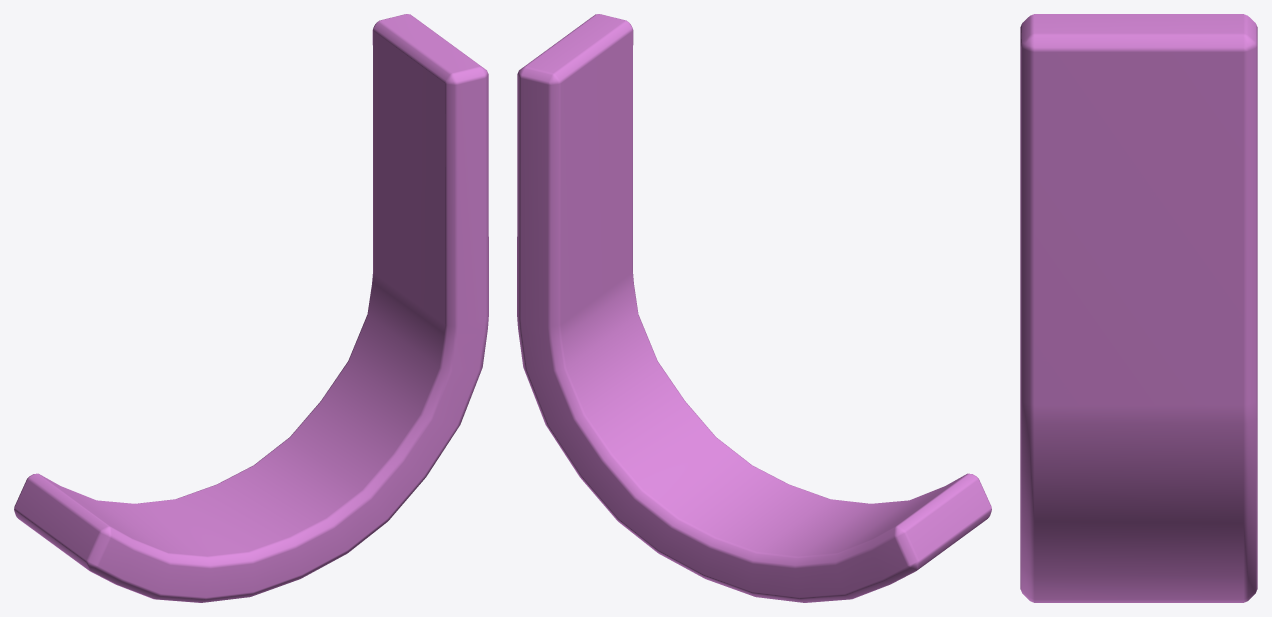
File: pedeswayLong.fbx
The picture shows the model from 3 angles, left to right: view 1: azimuth 30°, elevation 25°; view 2: azimuth 150°, elevation 25°; view 3: azimuth 270°, elevation 25°; orthographic projection. The views are drawn at different scales.
Visible parts, largest first — view 1: Circle.015; view 2: Circle.015; view 3: Circle.015.
Part boxes in pixels (x1,y1,x2,y2): Circle.015: (14,14,488,602); Circle.015: (517,14,991,602); Circle.015: (1020,14,1257,602).
Bounding box in the file's own units: 6.86 × 7.73 × 2.4.
